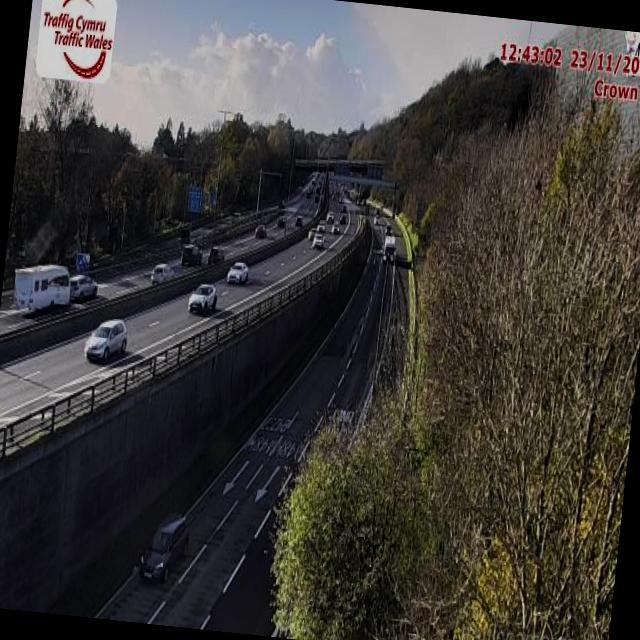foliage: (272, 92, 640, 640), (3, 82, 211, 276), (349, 59, 542, 211), (223, 126, 274, 200)
